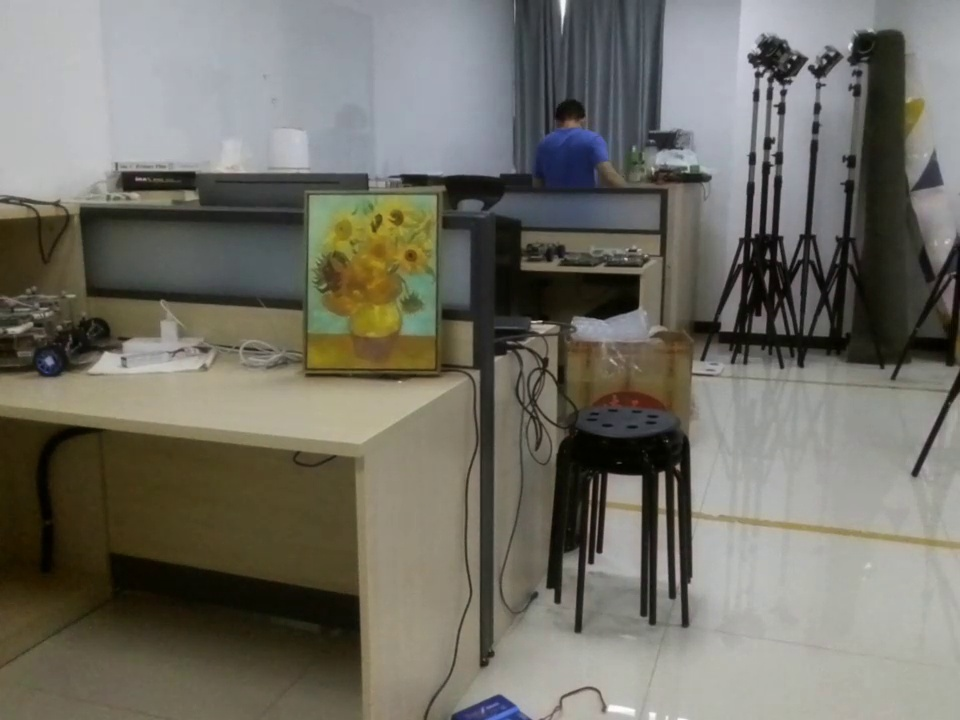painting: (299, 190, 462, 378)
